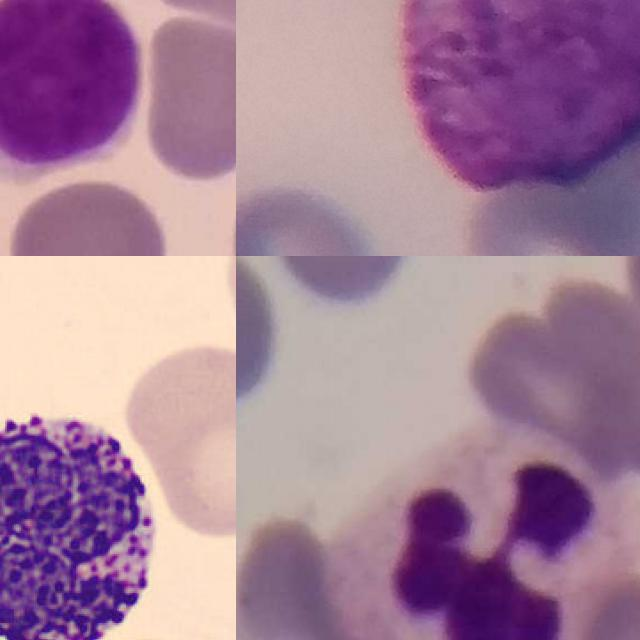Basophil: (399, 0, 640, 195), (0, 395, 172, 640)
Lymphocyte: (0, 0, 146, 188)
Neutrophil: (320, 427, 625, 640)
RBC: (121, 335, 236, 545)
